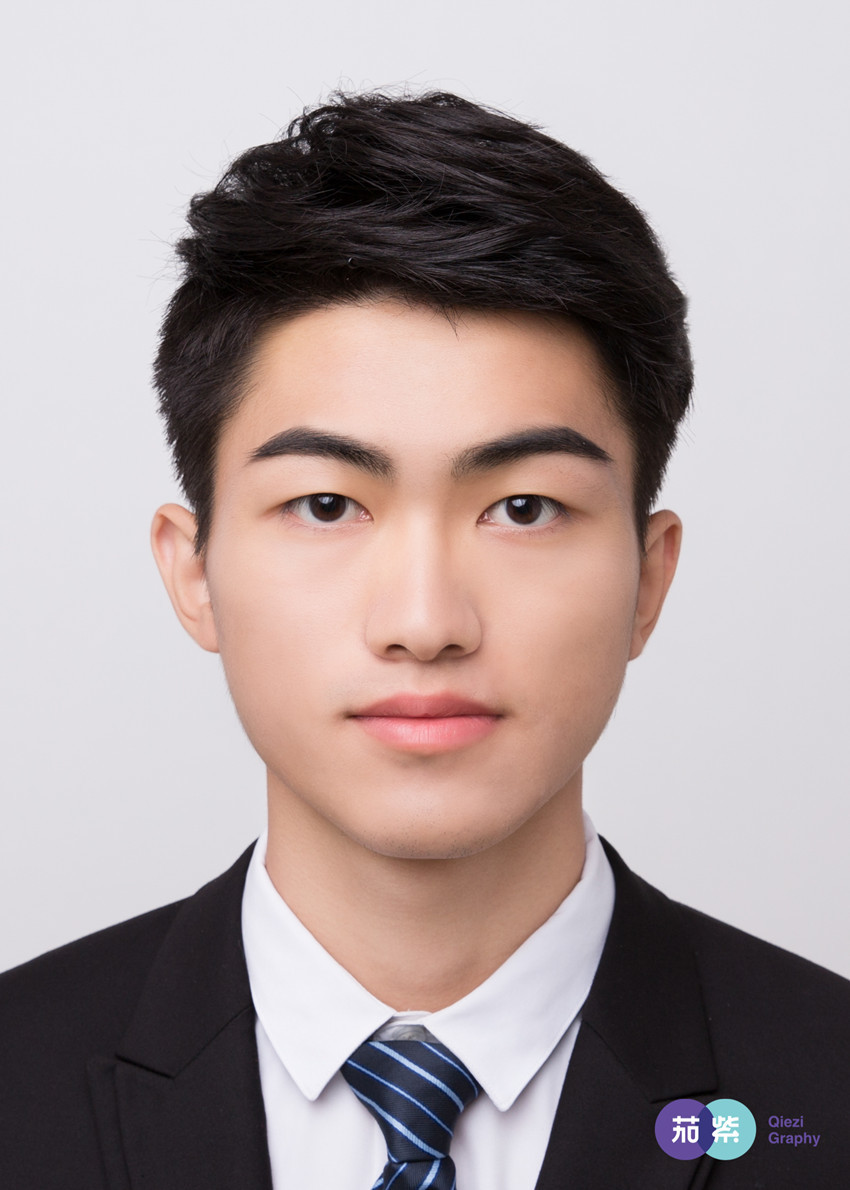unmask: (210, 328, 659, 832)
